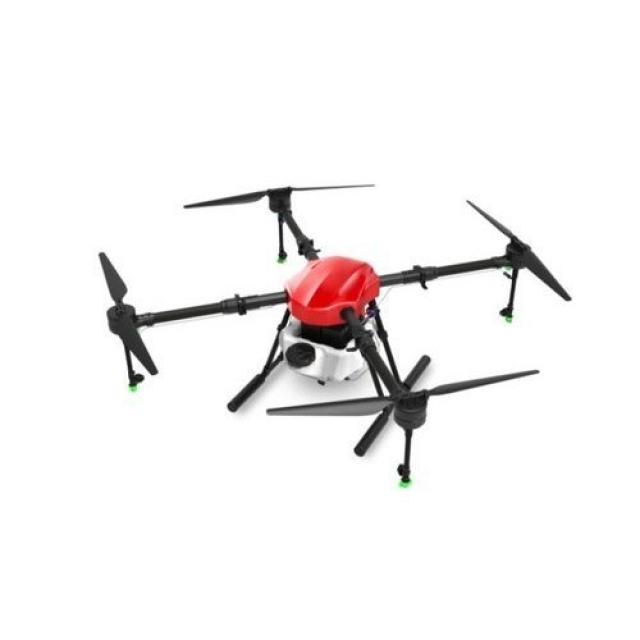drone: (77, 168, 619, 503)
